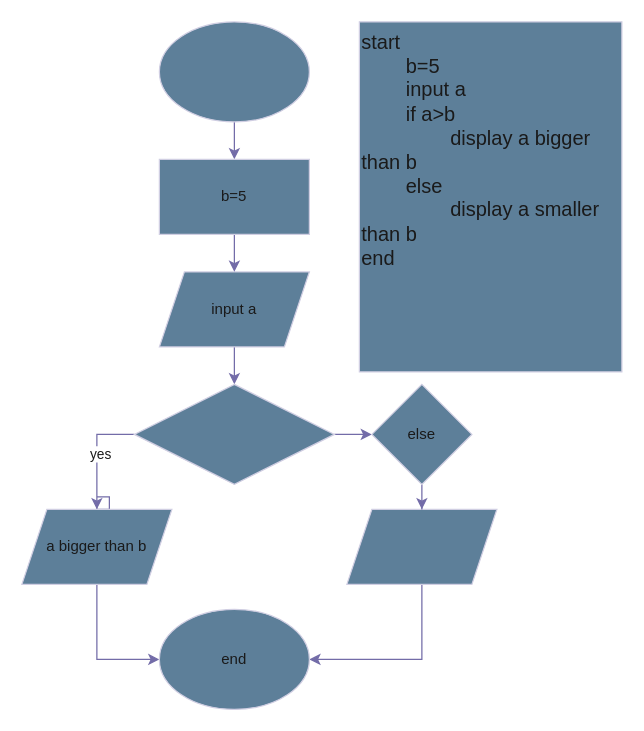
Image size: 644x731. Some labels were removed from this diagram. Here are the shapes that lost their labels. From the top down, the centre of each, then its label:
At pixel 233 71: "start".
At pixel 233 433: "if a>b".
At pixel 421 546: "a smaller than b".
